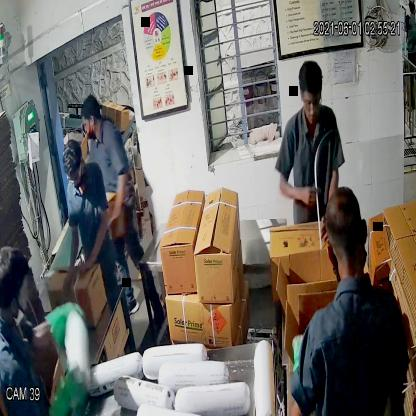goggles: (298, 91, 323, 114)
